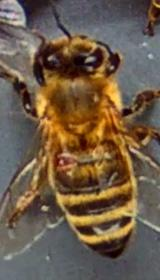varroa_mite: (53, 142, 75, 178)
